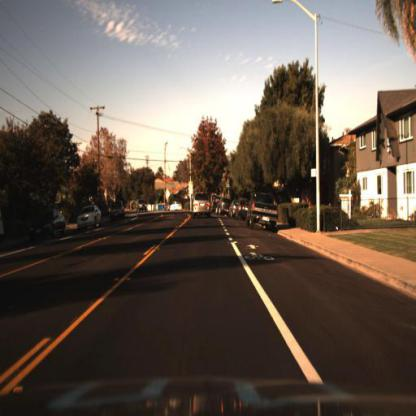car: (23, 200, 70, 247), (247, 189, 283, 235), (76, 201, 105, 235), (190, 187, 208, 218), (110, 198, 128, 223), (235, 191, 247, 224), (134, 197, 151, 214), (168, 198, 182, 213)
